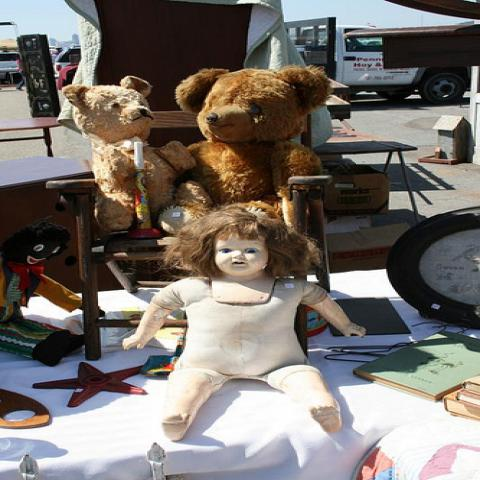car: (53, 45, 82, 78), (0, 52, 20, 79)
truck: (281, 1, 480, 103)
